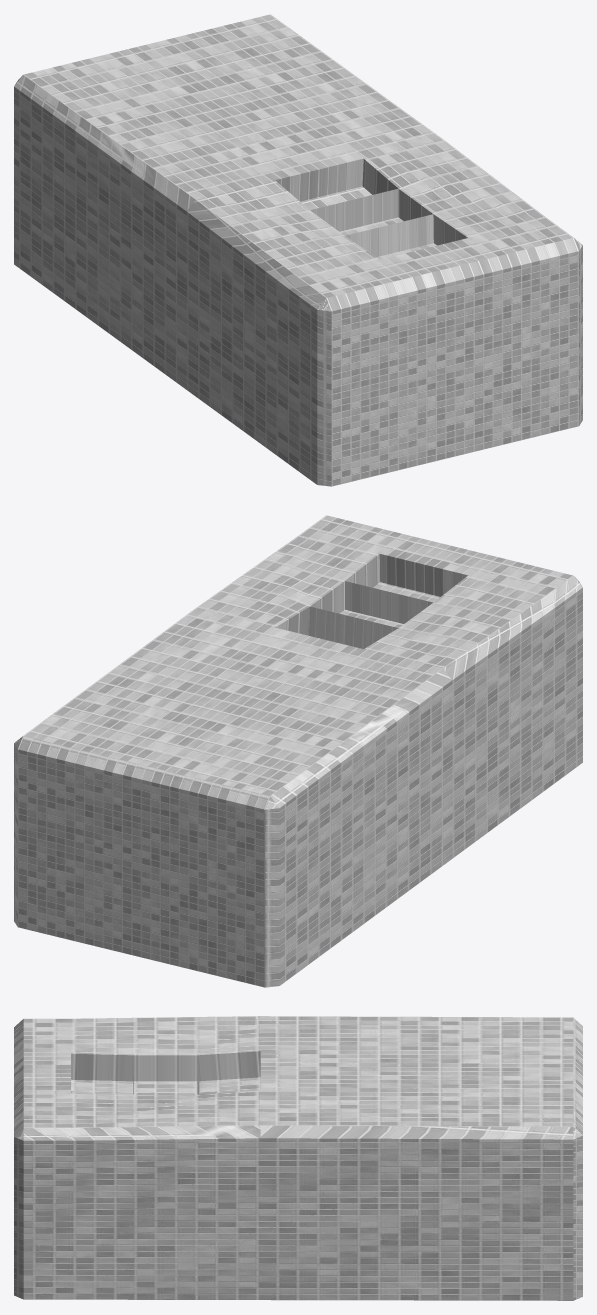
The model's file is meuble de cuisine.FBX.
3 renders of one model, top to bottom at view 1: azimuth 30°, elevation 25°; view 2: azimuth 150°, elevation 25°; view 3: azimuth 270°, elevation 25°, orthographic. The views are drawn at different scales.
Visible parts, largest first — view 1: Boîte001; view 2: Boîte001; view 3: Boîte001.
Part boxes in pixels (box(x1,y1,x2,y2)): Boîte001: box(14, 14, 582, 486); Boîte001: box(14, 515, 582, 987); Boîte001: box(14, 1016, 582, 1300).
Size of the model in its own units: 29.04 by 19.73 by 59.41.
Materials: 2 (1 with a texture image).
